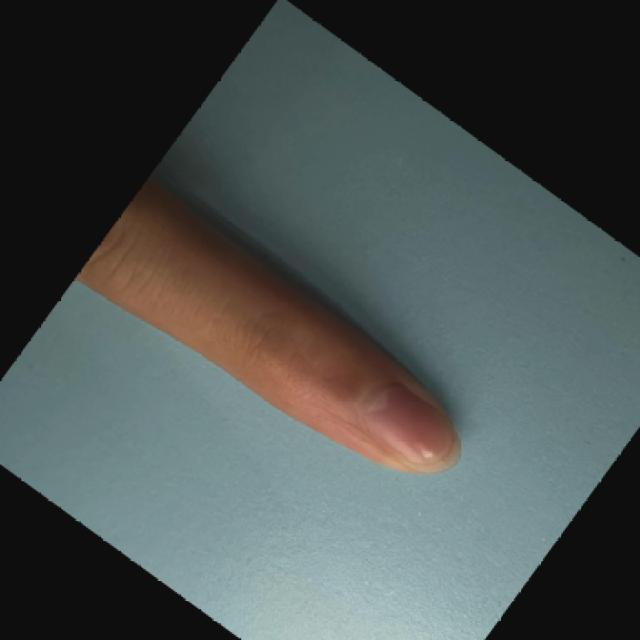Nail: (368, 388, 462, 472)
